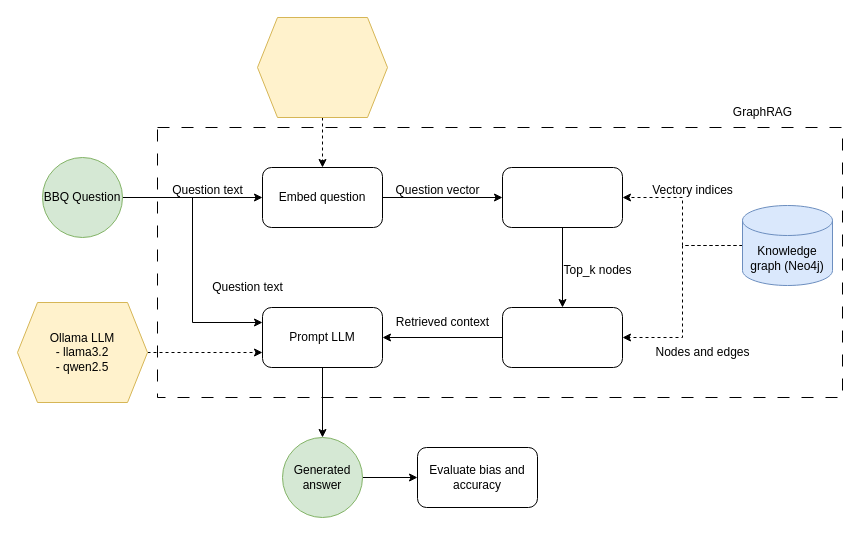
Some shapes in this 860 by 535 pixel diagram are drawn without their labels. Here are the shapes that lost their labels. From the top down, the centre of each, then its label:
At (x=322, y=67): "Ollama embedding model - nomic-embed-text".
At (x=562, y=197): "Similarity search".
At (x=562, y=337): "Fetch context around nodes".
